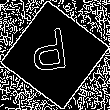P_S: (33, 27, 77, 83)
